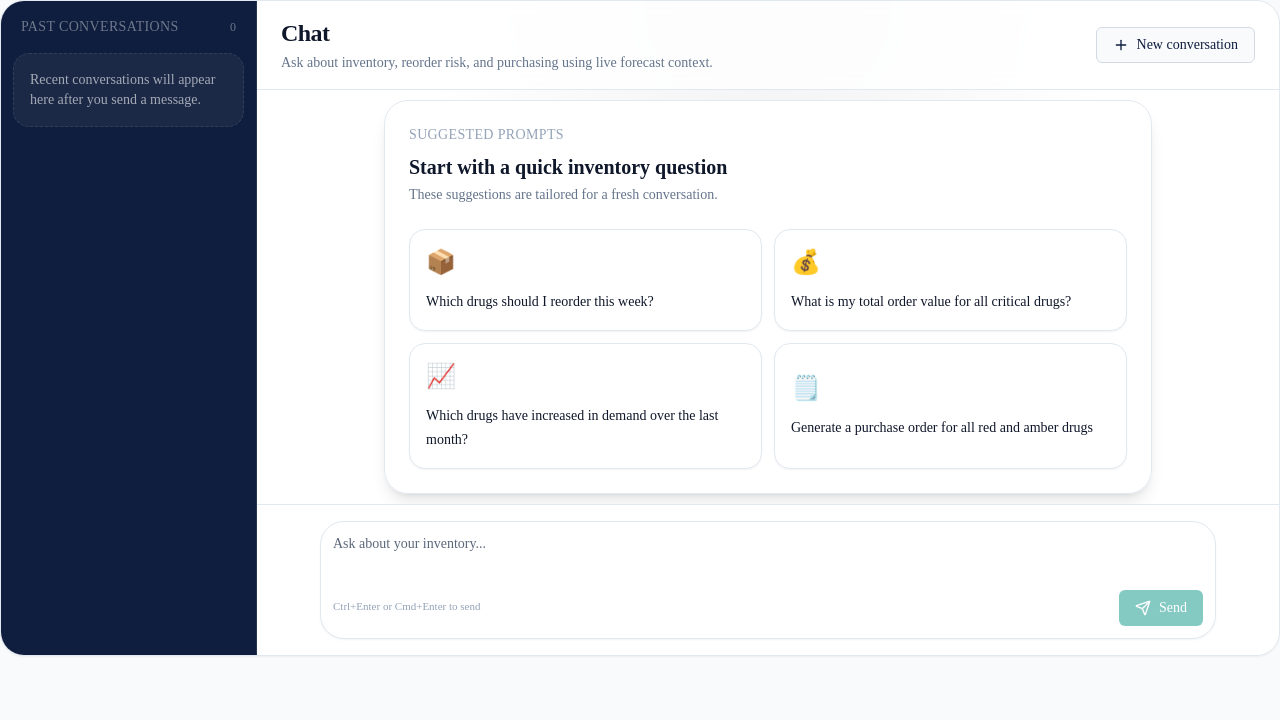
Test: Chat route › sends chat requests with a conversation_id
Click the button "📦 Which drugs should I reorder this week?".
click(540, 302)  # box [409,229,762,331]
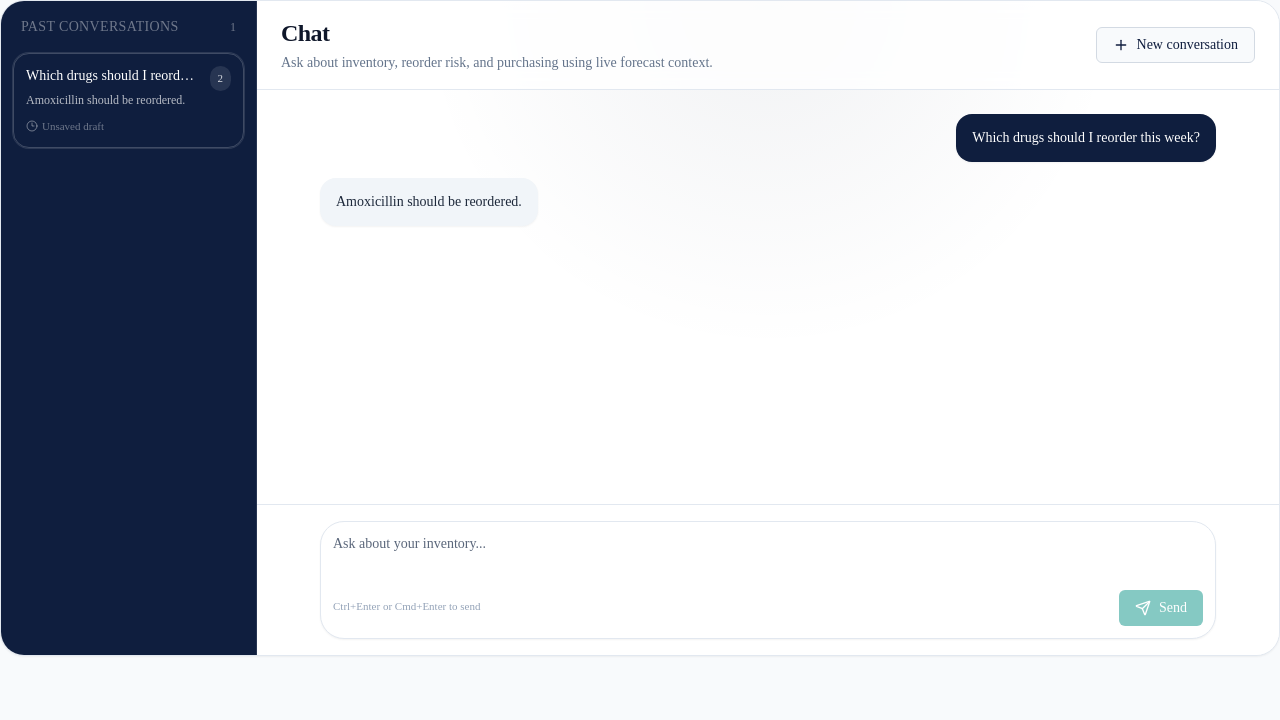
Expected: the button named "Stop generating" is shown, [1119,590,1203,626]
Result: the text "Amoxicillin should be reordered." below "Past conversations" is shown at [26,93,185,107]
